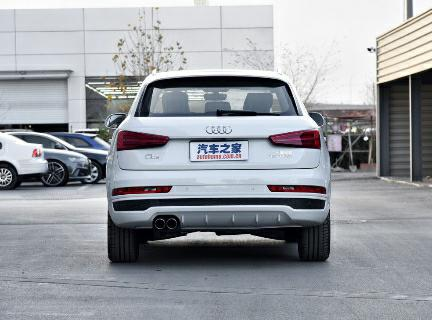奥迪-Q3: (99, 69, 338, 265)
